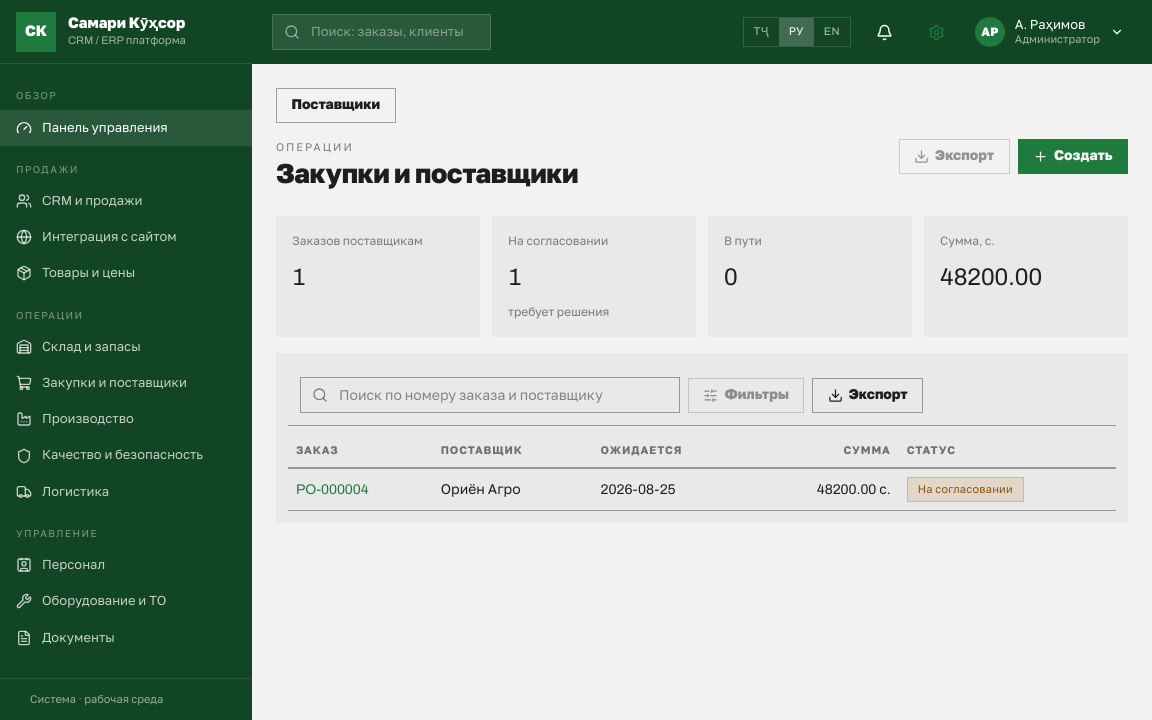
Закупки › shows the no-match state when a search excludes everything
Expected: the text "Ориён Агро" is shown, [433,468,593,511]
Type "ничего" into the search field labelled "Поиск по номеру заказа и поставщику" at (490, 395), box [300,377,680,413]
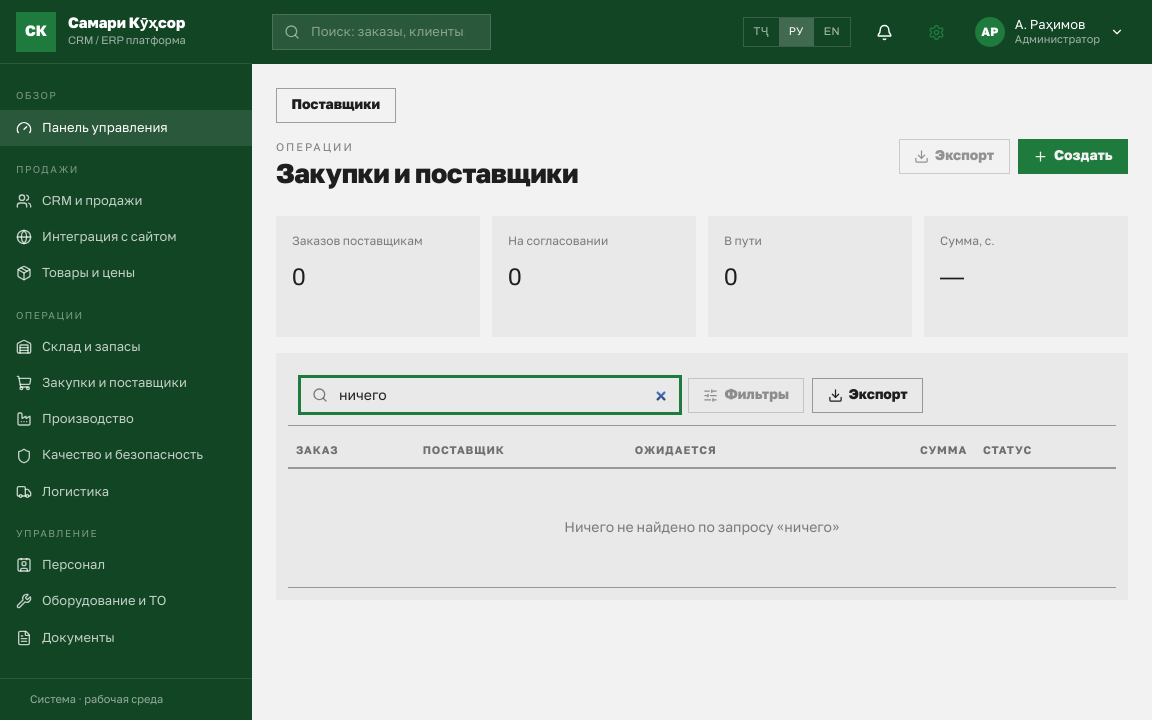
Result: the cell with test id "list-no-match" is shown at [288,468,1116,588]
